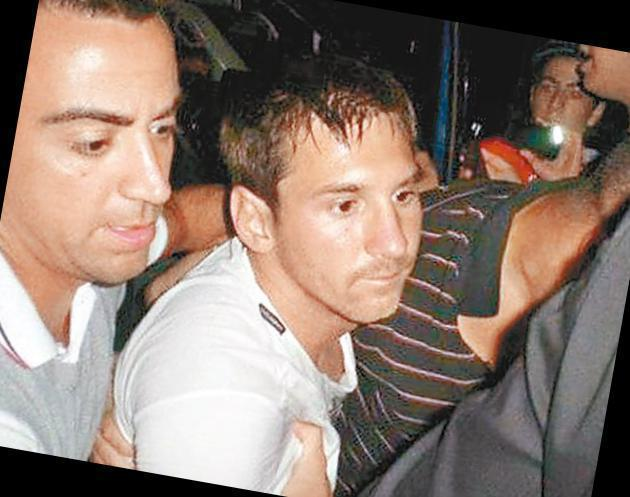Drunk: (43, 20, 180, 286), (266, 100, 423, 324)
